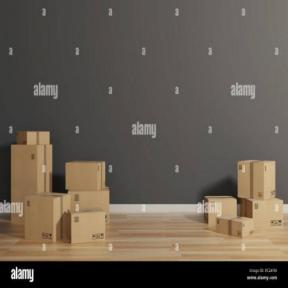box: (7, 139, 57, 228), (22, 192, 72, 252), (66, 187, 122, 226), (233, 156, 279, 202), (240, 198, 288, 236), (68, 208, 111, 248), (64, 156, 111, 191), (214, 208, 256, 243), (200, 193, 242, 226), (15, 126, 53, 148)
